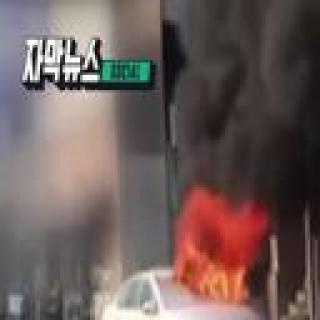fire: (177, 209, 260, 305)
